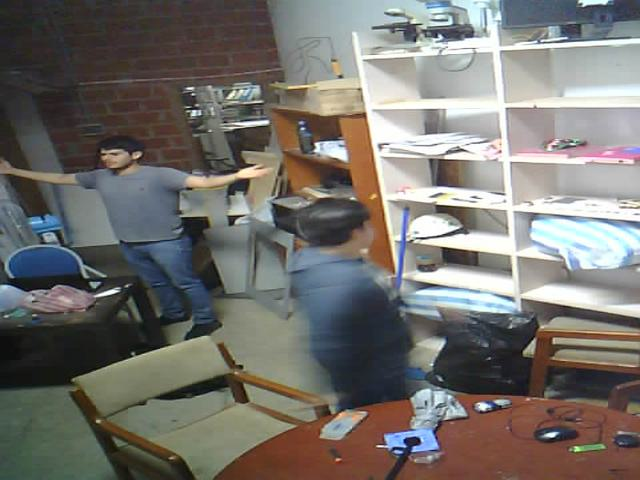person: (2, 84, 274, 351), (283, 183, 435, 426)
